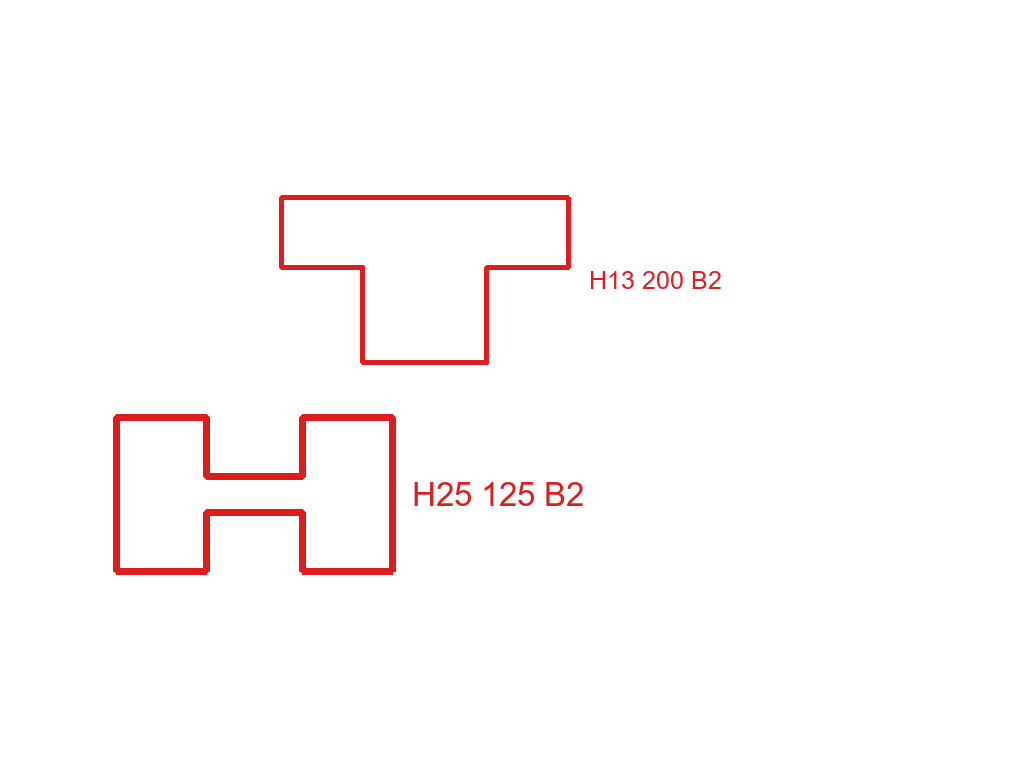shape: (277, 193, 573, 367), (111, 412, 398, 577)
text: (410, 480, 586, 508), (587, 269, 724, 291)
